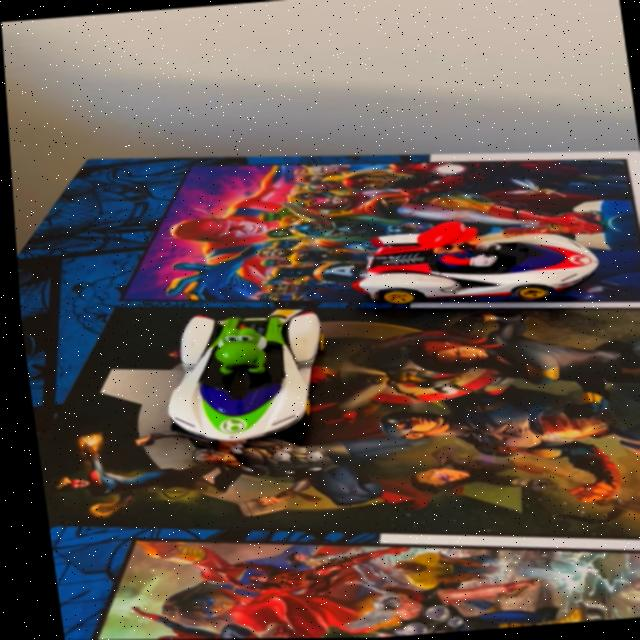mario: (332, 205, 604, 318)
yoshi: (138, 296, 341, 457)
